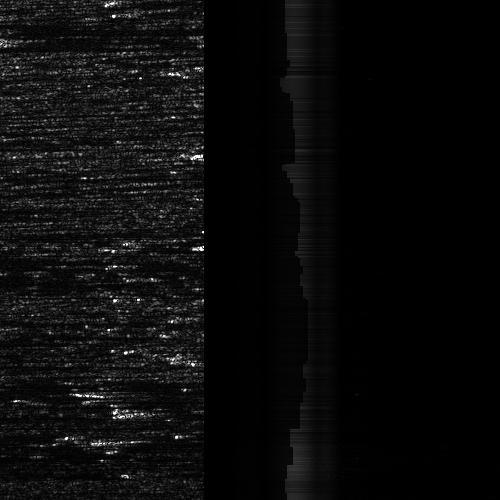shadow: (0, 310, 148, 327)
